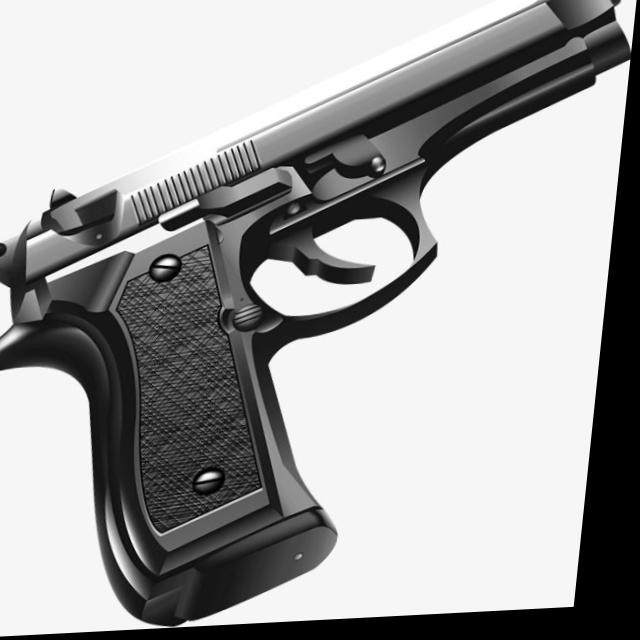handgun: (0, 0, 633, 640)
